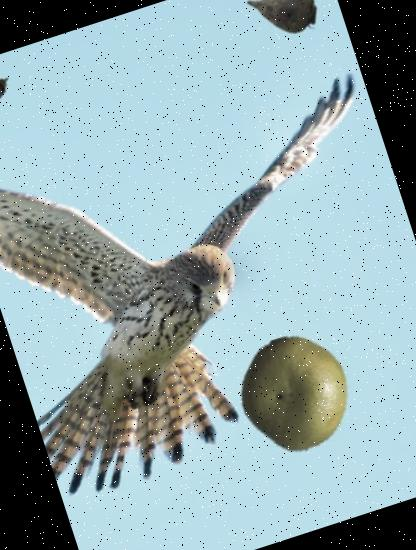Beetroot: (236, 0, 327, 53)
Eggplant: (0, 56, 23, 137)
Pomelo: (221, 319, 370, 468)
